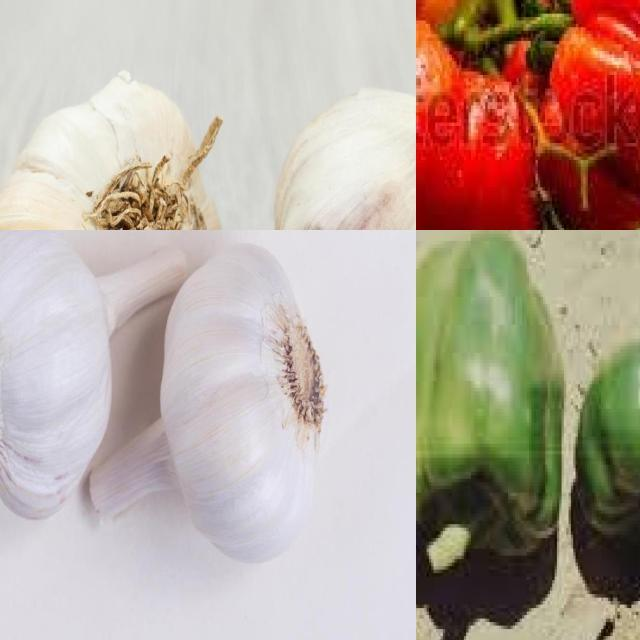bell_pepper: (417, 231, 570, 590), (501, 1, 640, 231), (417, 20, 555, 231), (571, 320, 640, 582)
garlic: (90, 239, 334, 567), (1, 231, 190, 523), (1, 66, 229, 231), (265, 25, 417, 231)
